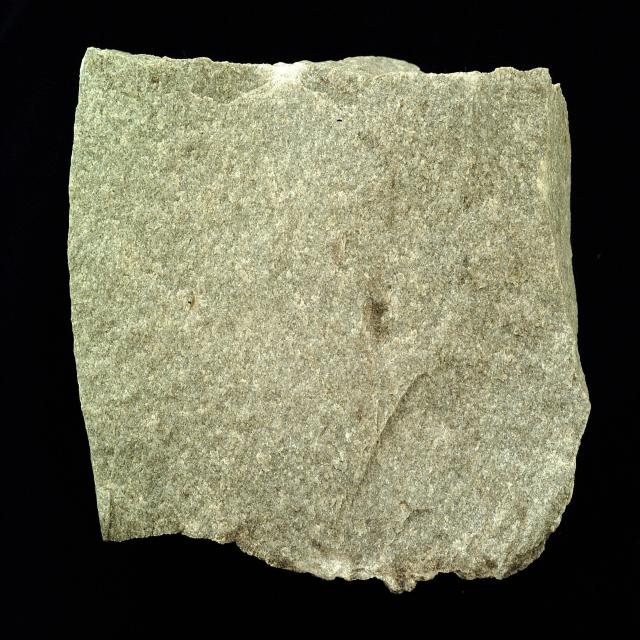Sedimentary: (64, 43, 590, 603)
